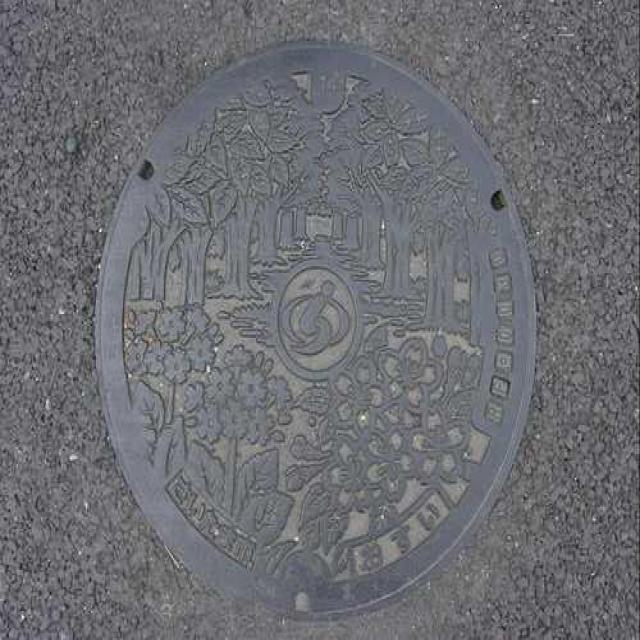manhole: (98, 45, 535, 616)
